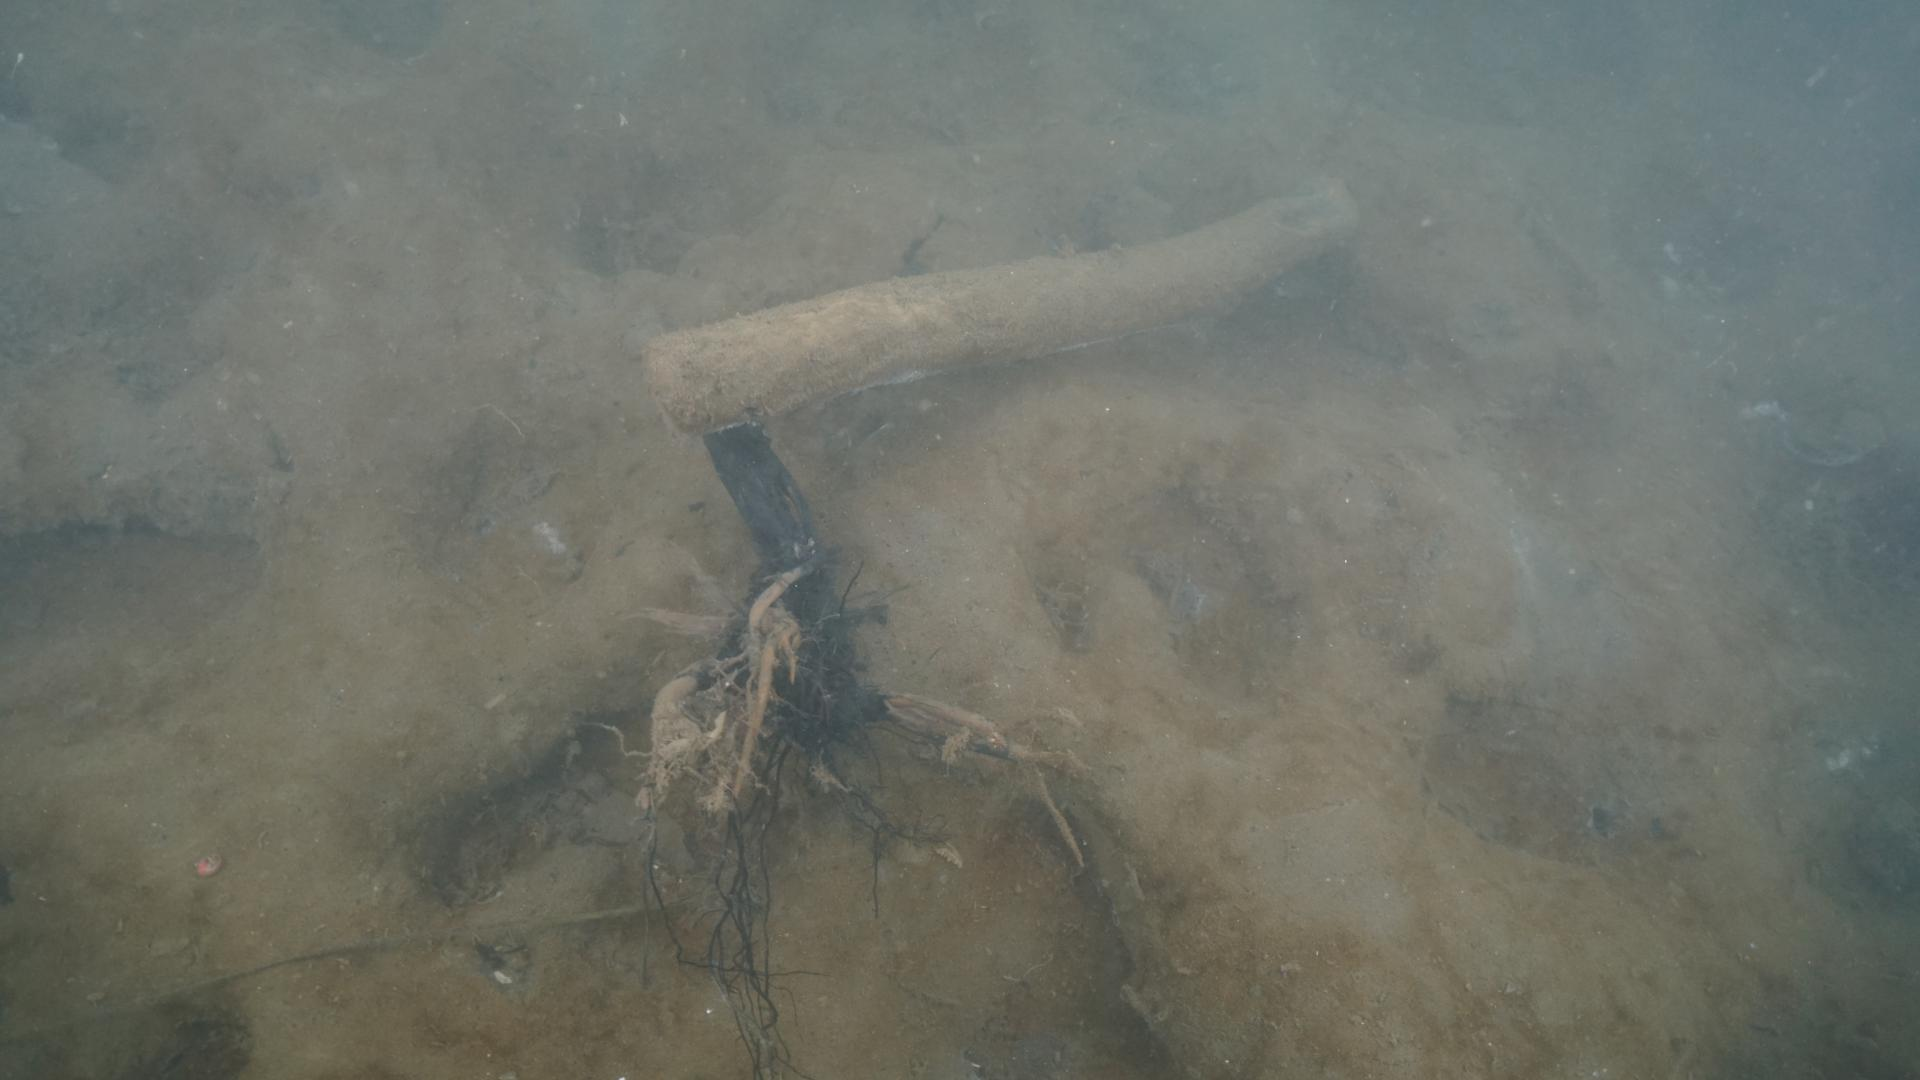wood: (630, 156, 1367, 443)
